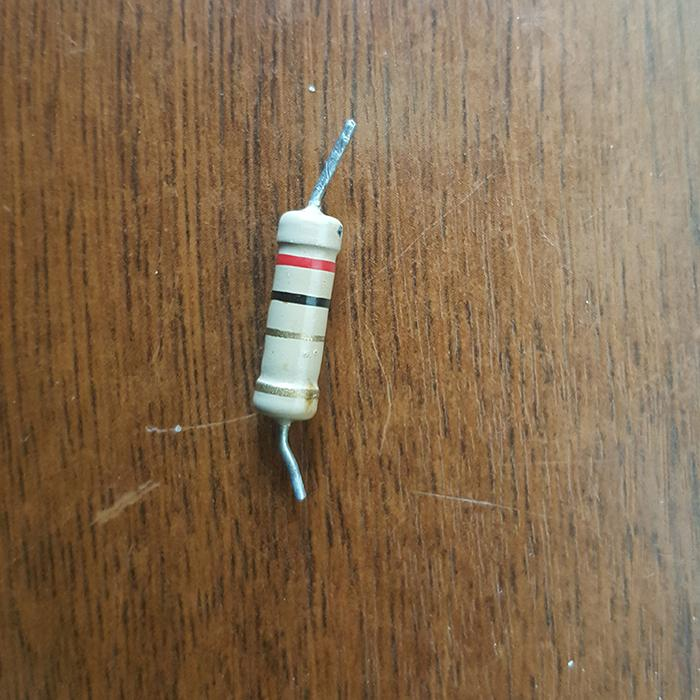resistor: (246, 211, 354, 427)
